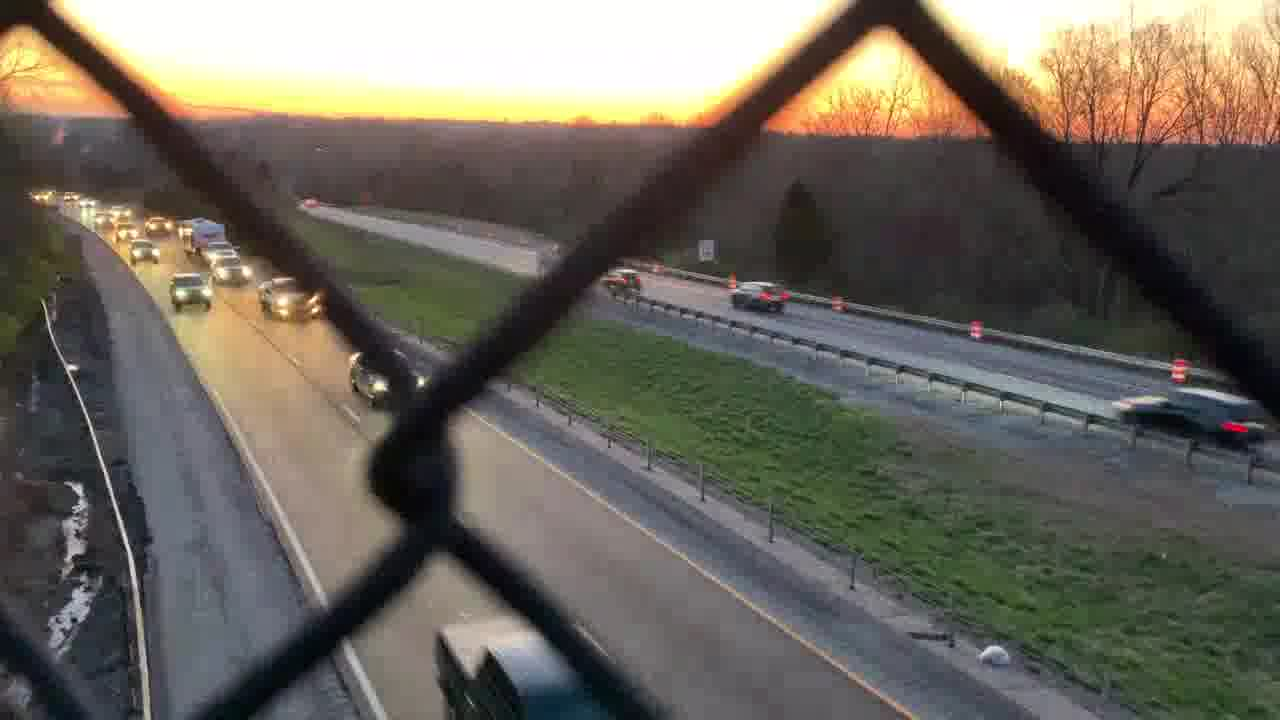largeCar: (1114, 383, 1264, 447), (731, 276, 790, 311)
lightTruck: (433, 623, 631, 720), (254, 278, 325, 324)
